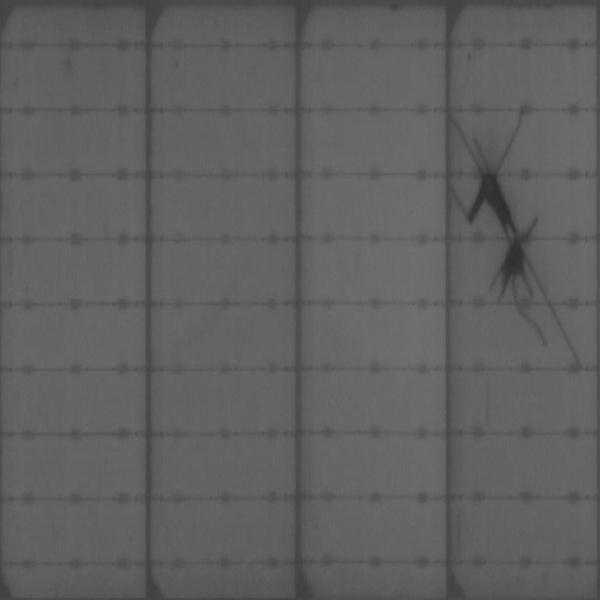broken: (449, 108, 590, 366)
